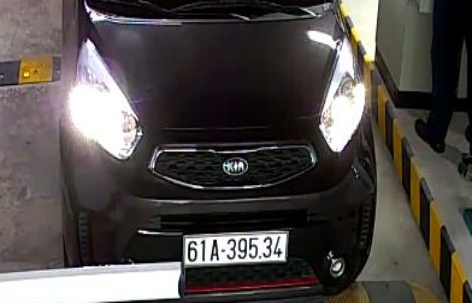plate: (177, 224, 300, 266)
